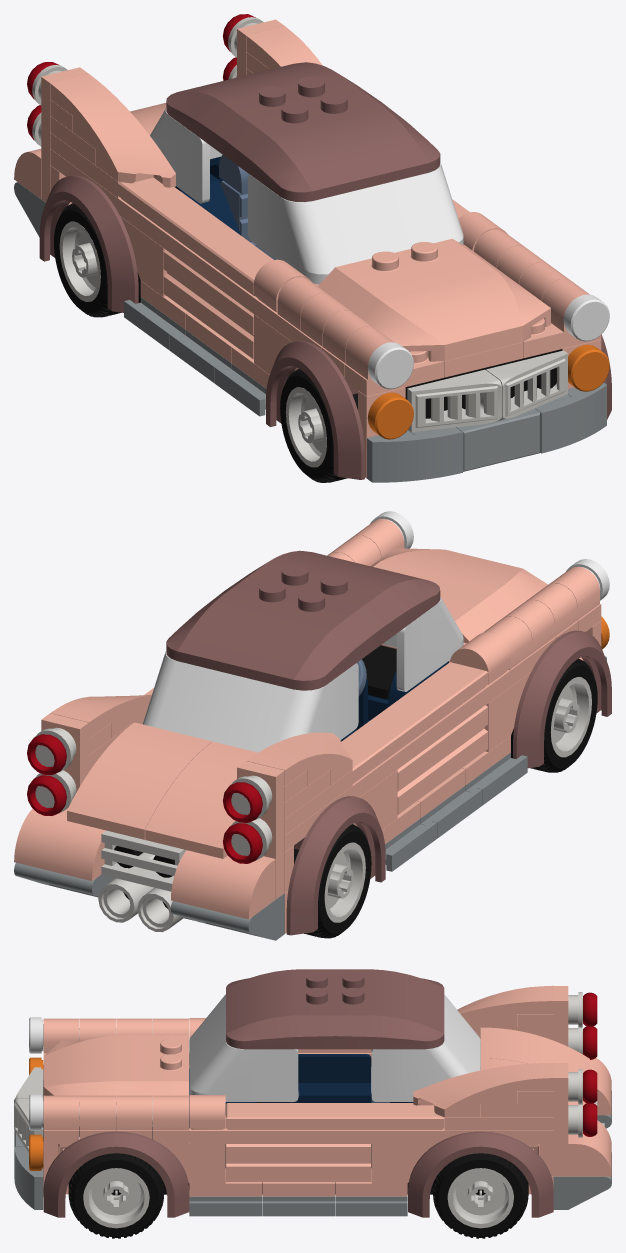
Rendered from 1955 Amethyst Presley 1.fbx.
The picture shows the model from 3 angles, top to bottom: view 1: azimuth 30°, elevation 25°; view 2: azimuth 150°, elevation 25°; view 3: azimuth 270°, elevation 25°; orthographic projection. The views are drawn at different scales.
Parts seen in each view (by area): view 1: part.066, part.049, part.128, part.056, part.059, part.064, part.065, part.067, part.091, part.009, part.048, part.071 (+42 smaller); view 2: part.066, part.129, part.020, part.049, part.021, part.059, part.065, part.064, part.045, part.044, part.009, part.128 (+41 smaller); view 3: part.066, part.049, part.128, part.058, part.129, part.008, part.062, part.063, part.057, part.047, part.096, part.124 (+47 smaller).
Boxes of the visible parts, x1=… form: part.066: x1=166, y1=62, x2=440, y2=201; part.049: x1=318, y1=238, x2=550, y2=361; part.128: x1=248, y1=163, x2=463, y2=284; part.056: x1=50, y1=74, x2=175, y2=187; part.059: x1=118, y1=177, x2=273, y2=296; part.064: x1=266, y1=340, x2=364, y2=479; part.065: x1=39, y1=175, x2=138, y2=312; part.067: x1=367, y1=427, x2=462, y2=482; part.091: x1=407, y1=369, x2=501, y2=431; part.009: x1=163, y1=250, x2=253, y2=359; part.048: x1=50, y1=149, x2=277, y2=329; part.071: x1=456, y1=408, x2=540, y2=471; part.066: x1=166, y1=550, x2=440, y2=690; part.129: x1=143, y1=651, x2=358, y2=752; part.020: x1=67, y1=722, x2=212, y2=839; part.049: x1=370, y1=548, x2=547, y2=643; part.021: x1=145, y1=741, x2=257, y2=858; part.059: x1=341, y1=662, x2=488, y2=783; part.065: x1=286, y1=796, x2=385, y2=935; part.064: x1=513, y1=630, x2=611, y2=768; part.045: x1=171, y1=850, x2=275, y2=919; part.044: x1=14, y1=808, x2=105, y2=880; part.009: x1=397, y1=705, x2=487, y2=814; part.128: x1=382, y1=597, x2=463, y2=691; part.066: x1=226, y1=969, x2=444, y2=1049; part.049: x1=43, y1=1035, x2=188, y2=1104; part.128: x1=189, y1=994, x2=298, y2=1101; part.058: x1=226, y1=1103, x2=444, y2=1129; part.129: x1=371, y1=994, x2=480, y2=1101; part.008: x1=226, y1=1144, x2=371, y2=1181; part.062: x1=43, y1=1120, x2=189, y2=1217; part.063: x1=408, y1=1131, x2=553, y2=1217; part.057: x1=413, y1=1062, x2=553, y2=1117; part.047: x1=189, y1=1116, x2=553, y2=1143; part.096: x1=277, y1=1054, x2=371, y2=1102; part.124: x1=68, y1=1153, x2=164, y2=1238.
Bounding box in the file's own units: 5590 × 4960 × 13129.
